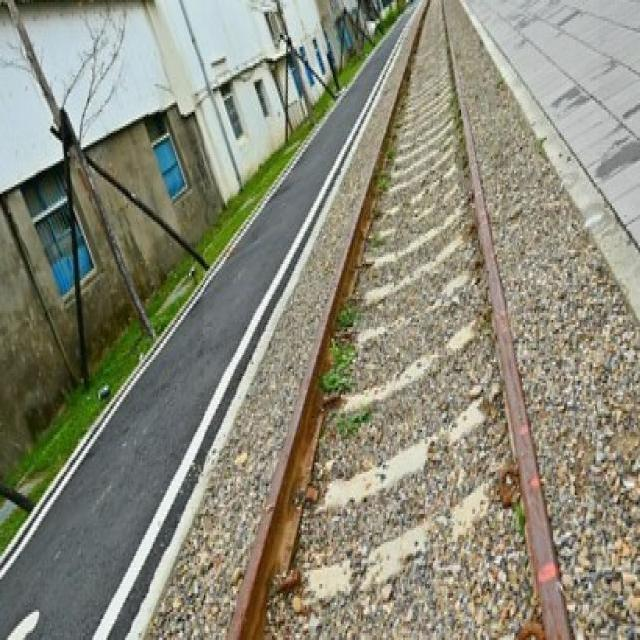rail: (205, 1, 600, 640)
